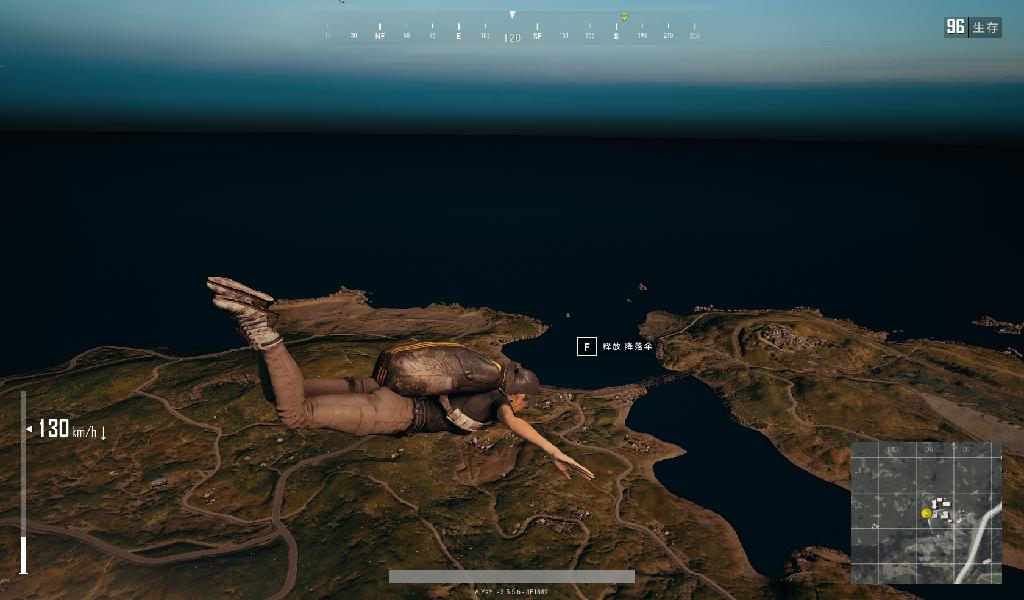Target Person: (198, 271, 596, 480)
